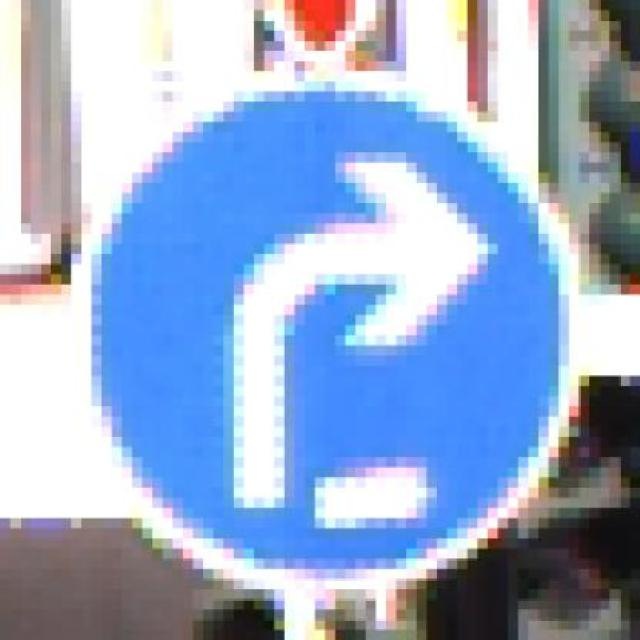Turn right ahead: (82, 83, 589, 591)
